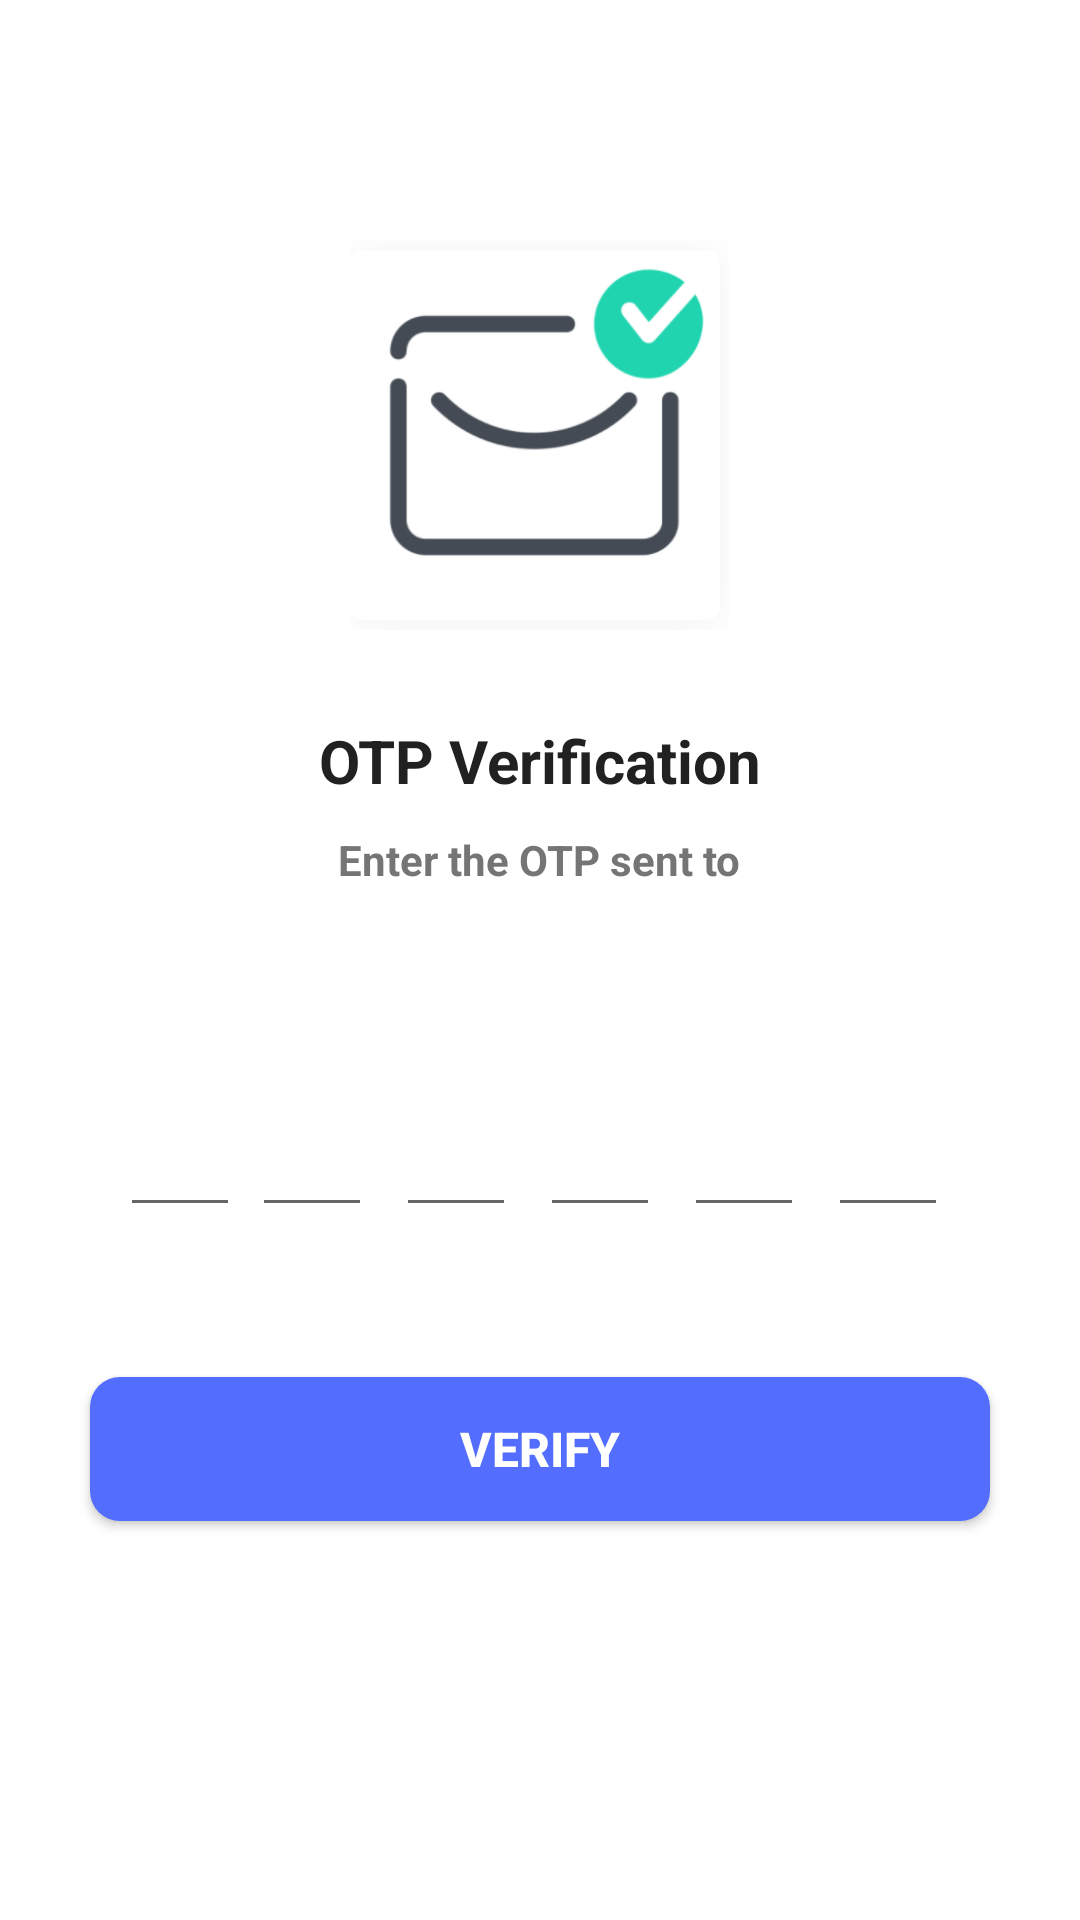

Named icons in this screenshot (1080w x 1920h) and their centers, point (x, y):
received: point (546, 412)
